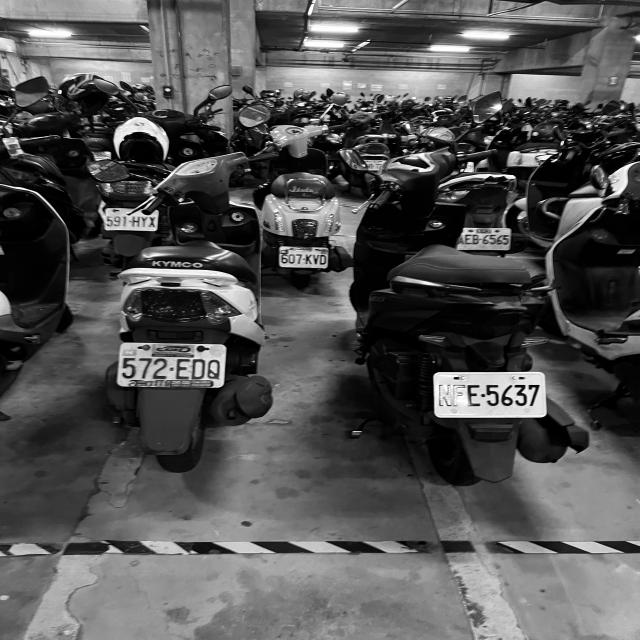-: (168, 366, 175, 372), (480, 393, 486, 398), (129, 220, 132, 223), (302, 258, 306, 260), (479, 238, 483, 240)
0: (288, 254, 296, 264)
1: (122, 216, 126, 227)
2: (152, 357, 168, 379)
3: (514, 384, 528, 406)
5: (122, 356, 136, 378), (486, 384, 500, 406), (489, 234, 496, 244), (106, 216, 112, 227), (504, 234, 509, 244)
6: (501, 384, 513, 406), (482, 234, 490, 244), (281, 254, 288, 264), (497, 234, 503, 244)
7: (527, 382, 541, 407), (138, 356, 152, 378), (296, 254, 302, 264)
9: (114, 215, 120, 227)
B: (473, 234, 479, 244)
D: (192, 358, 206, 378), (320, 254, 326, 265)
E: (466, 384, 482, 407), (175, 357, 190, 379), (464, 234, 472, 244)
F: (452, 384, 466, 407)
H: (132, 216, 140, 227)
K: (306, 254, 312, 264)
N: (438, 384, 452, 406)
Q: (207, 358, 220, 381)
V: (313, 254, 319, 264)
X: (149, 215, 156, 228)
Y: (142, 216, 148, 226)
plate: (435, 372, 545, 417), (120, 343, 226, 387), (106, 210, 158, 230), (280, 248, 328, 268)
